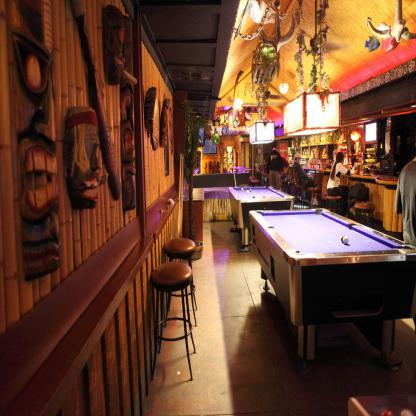Ball: (241, 188, 272, 201), (344, 236, 350, 246), (341, 235, 346, 245)
